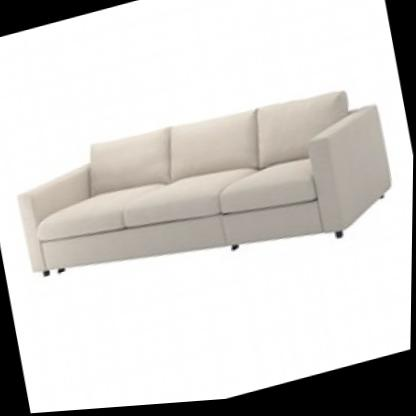Sofa: (1, 62, 402, 322)
